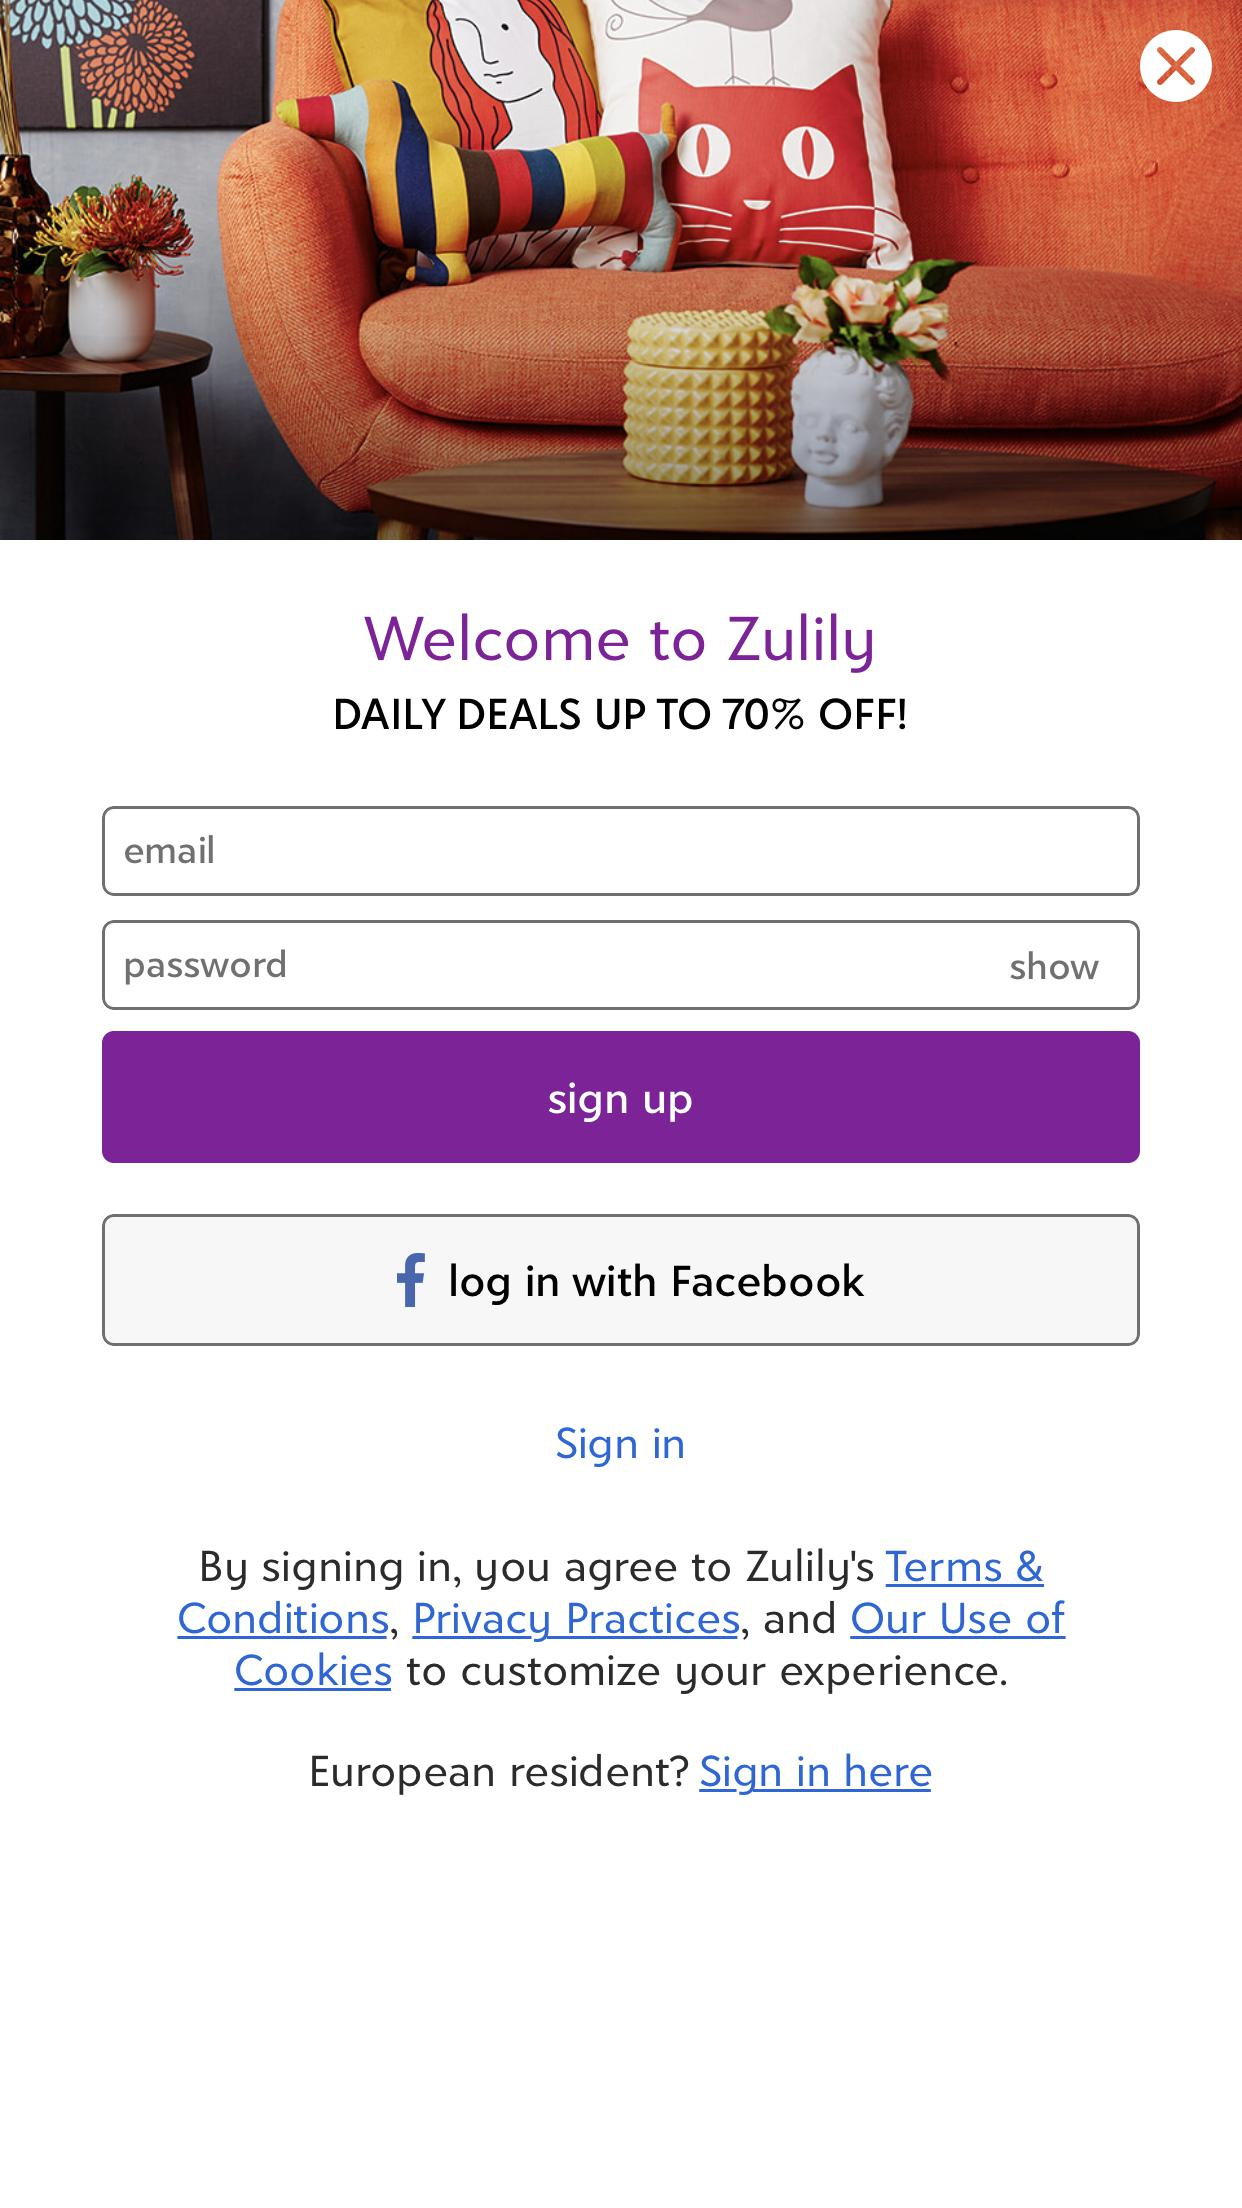EditText: (102, 805, 1140, 898), (102, 921, 1140, 1011)
Icon: (1137, 30, 1213, 105)
Image: (2, 2, 1242, 541)
Text: (177, 1547, 1066, 1697), (364, 613, 873, 675), (311, 1752, 933, 1796), (337, 698, 907, 731), (126, 948, 287, 986), (557, 1425, 685, 1469), (1010, 949, 1099, 981), (124, 836, 215, 864)
TextButton: (103, 1030, 1140, 1165), (102, 1215, 1140, 1347)
